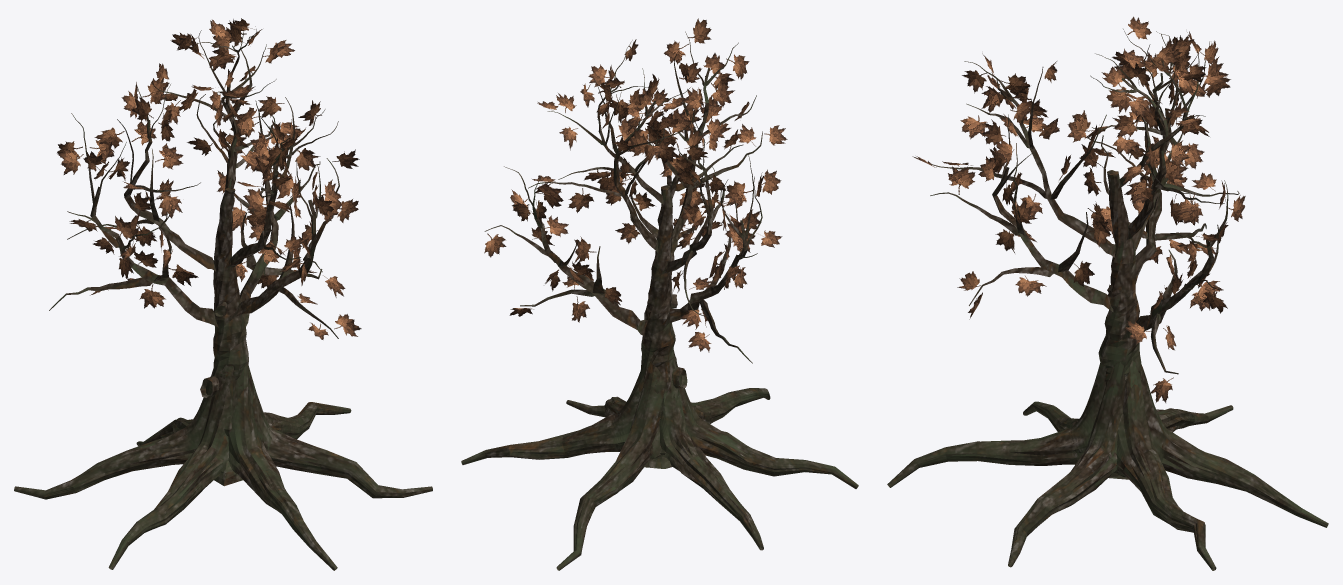
Rendered from TreeLeaf_01.fbx.
The picture shows the model from 3 angles, left to right: view 1: azimuth 30°, elevation 25°; view 2: azimuth 150°, elevation 25°; view 3: azimuth 270°, elevation 25°; orthographic projection. The views are drawn at different scales.
Visible parts, largest first — view 1: Treeleaf_01; view 2: Treeleaf_01; view 3: Treeleaf_01.
Part boxes in pixels (x1=…): Treeleaf_01: x1=14, y1=18, x2=432, y2=570; Treeleaf_01: x1=461, y1=18, x2=858, y2=570; Treeleaf_01: x1=887, y1=16, x2=1328, y2=570.
Bounding box in the file's own units: 780 × 1110 × 861.
2 materials, 2 textured.
